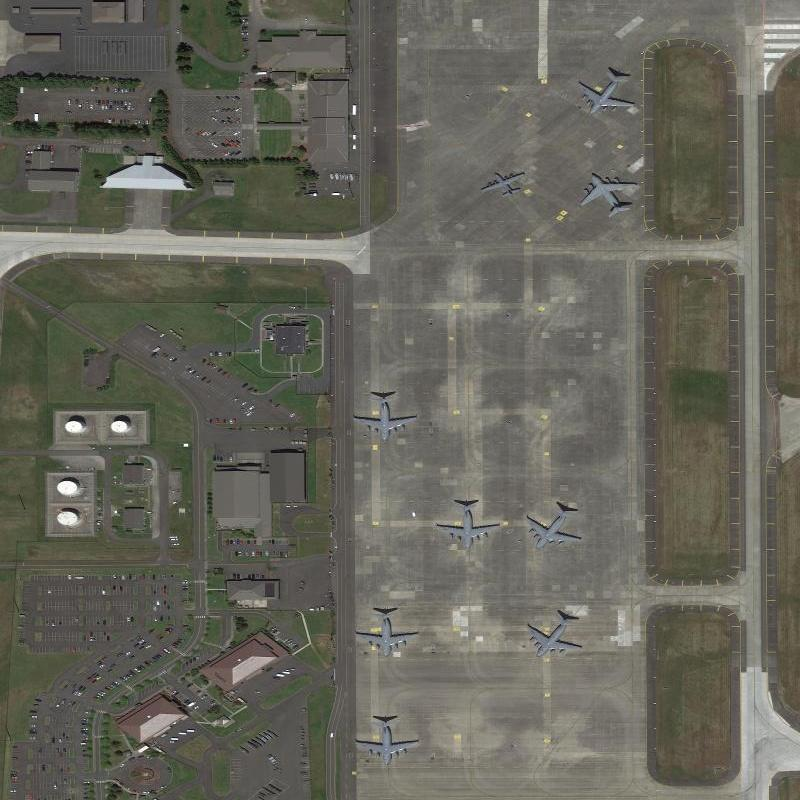A2: (477, 165, 528, 198)
A3: (432, 495, 501, 552), (351, 711, 419, 765), (352, 605, 418, 660), (350, 388, 417, 441), (522, 606, 585, 659), (575, 65, 636, 119), (577, 168, 641, 219), (522, 500, 581, 551)
